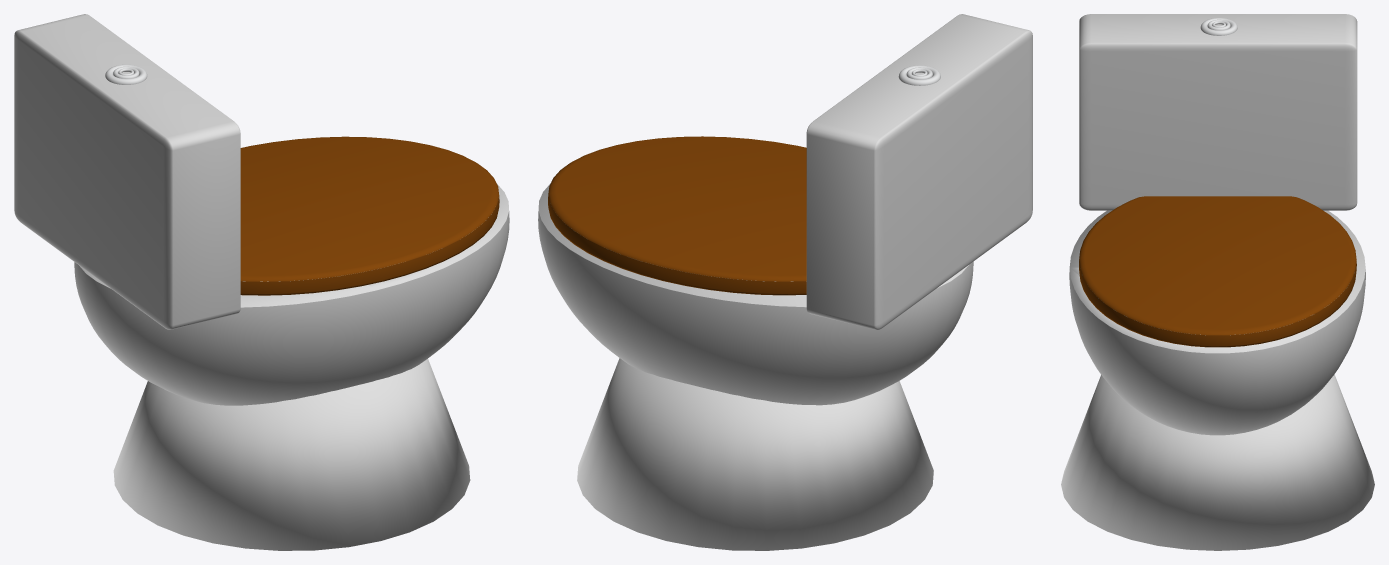
The model's file is Sanitario.fbx.
3 views of the same model, side by side, from view 1: azimuth 30°, elevation 25°; view 2: azimuth 150°, elevation 25°; view 3: azimuth 270°, elevation 25° (orthographic). The views are drawn at different scales.
Visible parts, largest first — view 1: Sanitario; view 2: Sanitario; view 3: Sanitario.
Boxes of the visible parts, x1=… form: Sanitario: x1=14, y1=14, x2=509, y2=550; Sanitario: x1=538, y1=14, x2=1032, y2=550; Sanitario: x1=1061, y1=14, x2=1374, y2=550.
Bounding box in the file's own units: 220 × 232 × 169.
